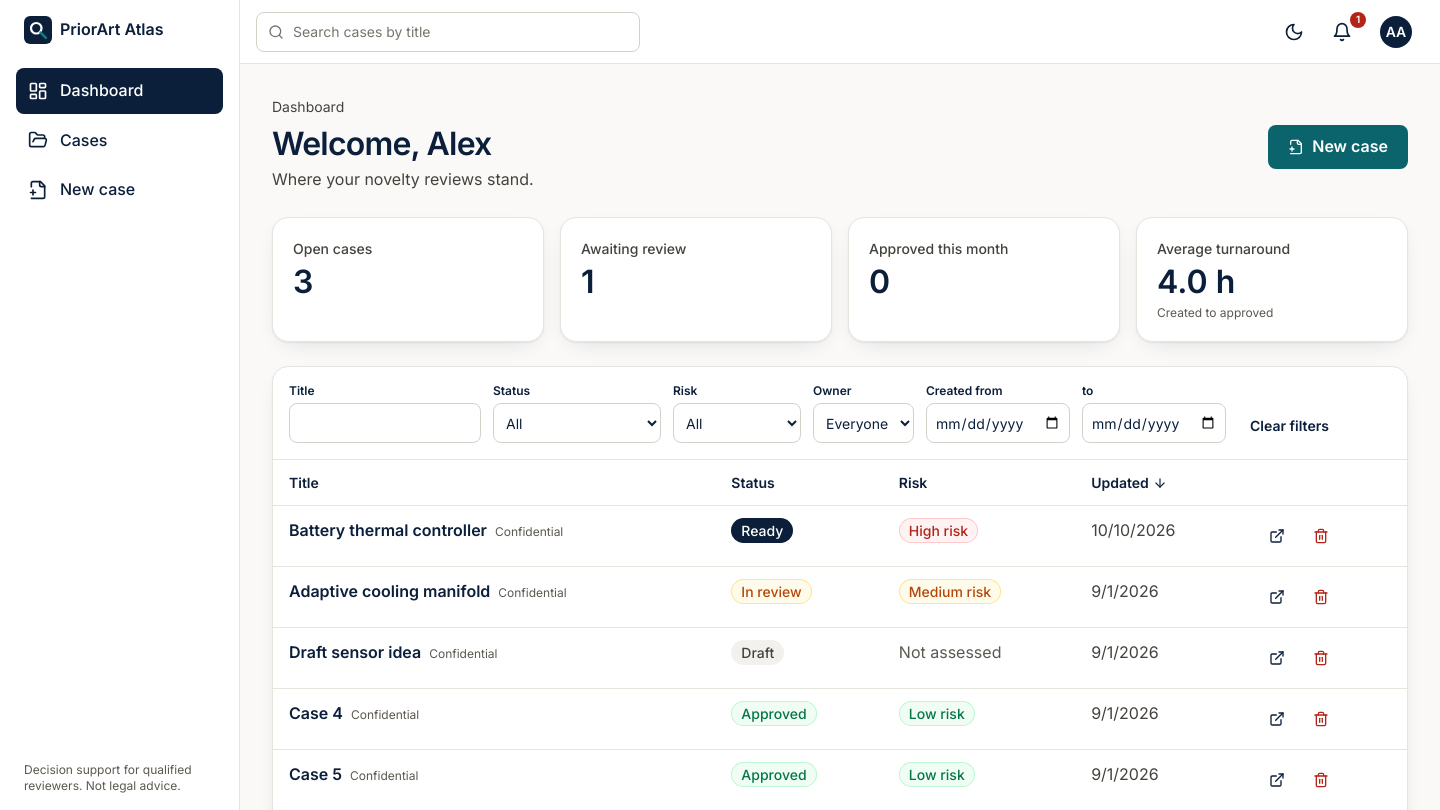
Test: dashboard › lists review and failure notifications in the bell menu
This screenshot has width=1440, height=810.
Click the button named "Notifications, 1 new". click: [1342, 32]
box: [1320,14,1364,50]
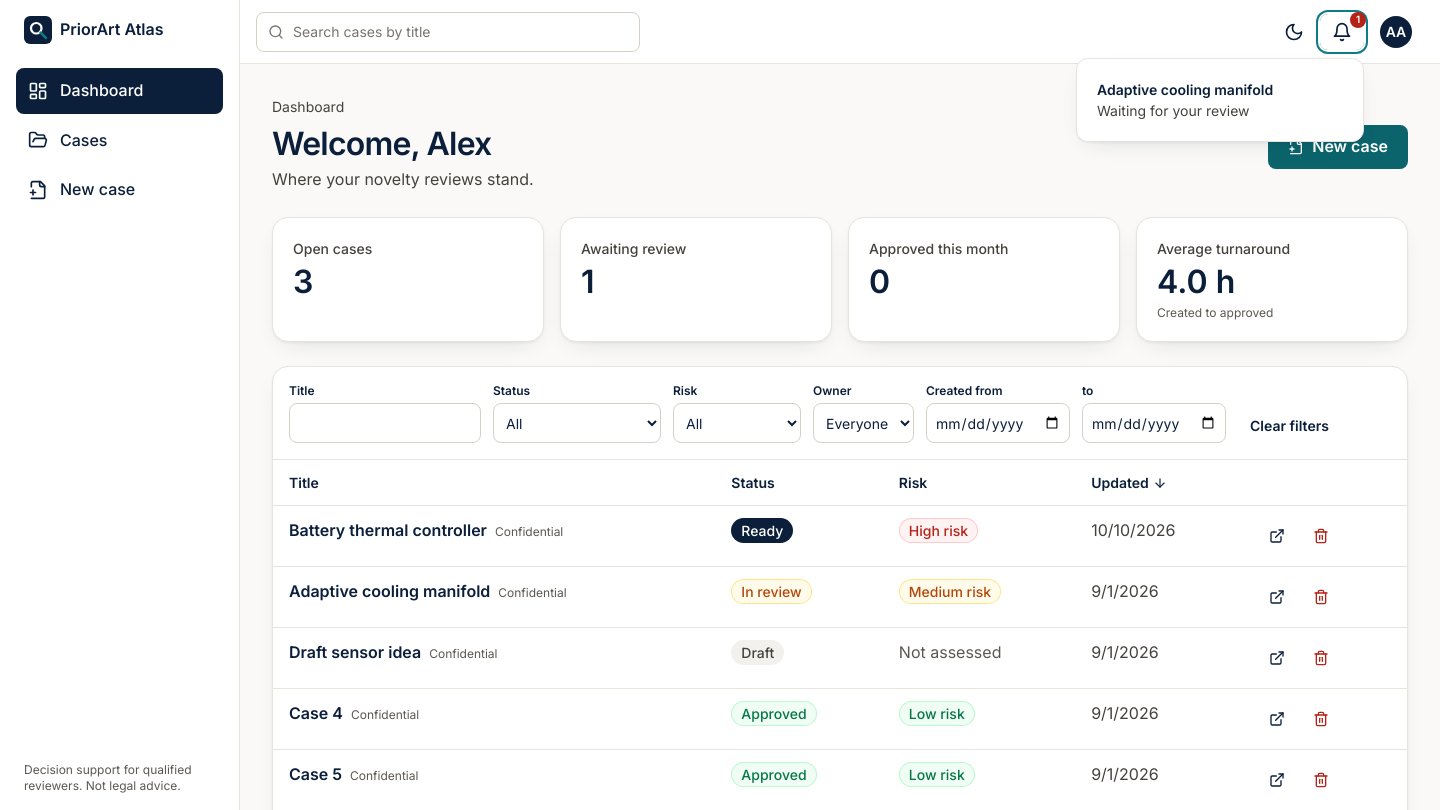
Now the text "Waiting for your review" is shown, box [1097,102,1250,118]
